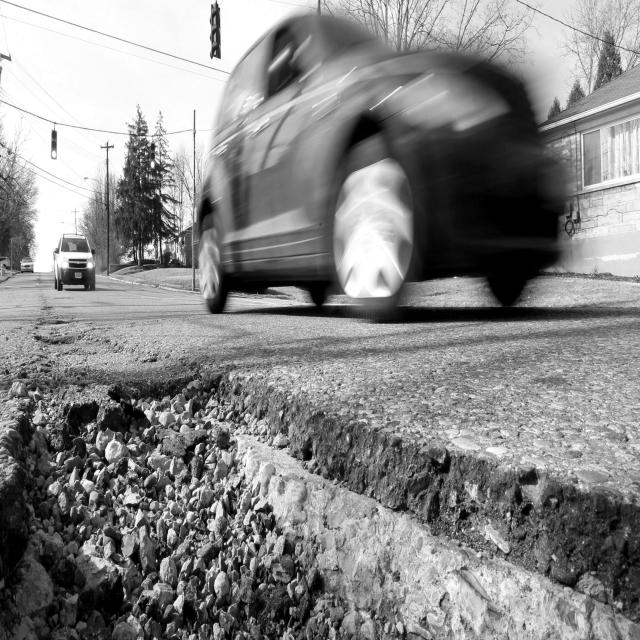pathole: (0, 374, 640, 640)
